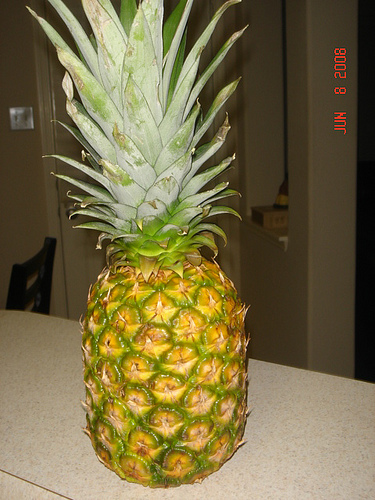pineapple: (23, 0, 251, 486)
